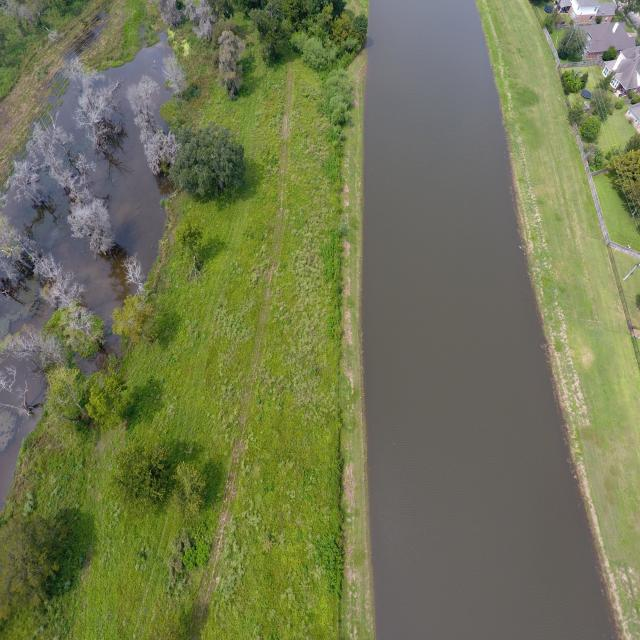fire: (363, 0, 616, 639), (0, 32, 171, 329), (0, 354, 44, 510), (0, 262, 52, 340)
